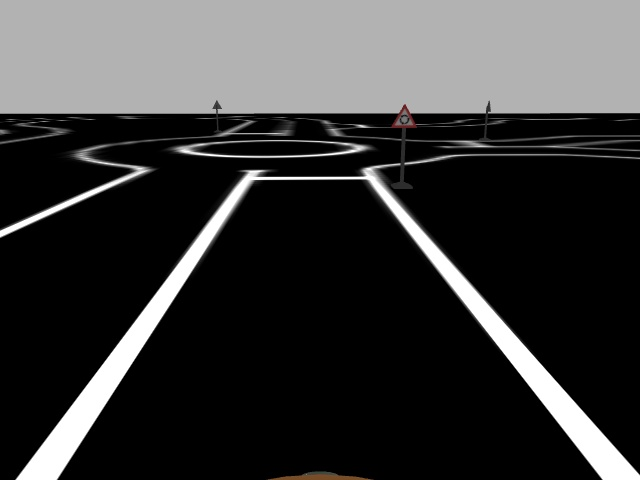roundabout: (391, 103, 417, 128)
